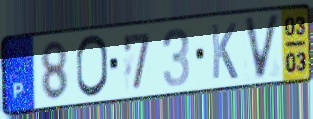3: (161, 27, 191, 88)
7: (121, 30, 152, 92)
8: (38, 39, 70, 103)
K: (209, 20, 240, 82)
O: (74, 33, 110, 100)
V: (241, 11, 283, 82)
